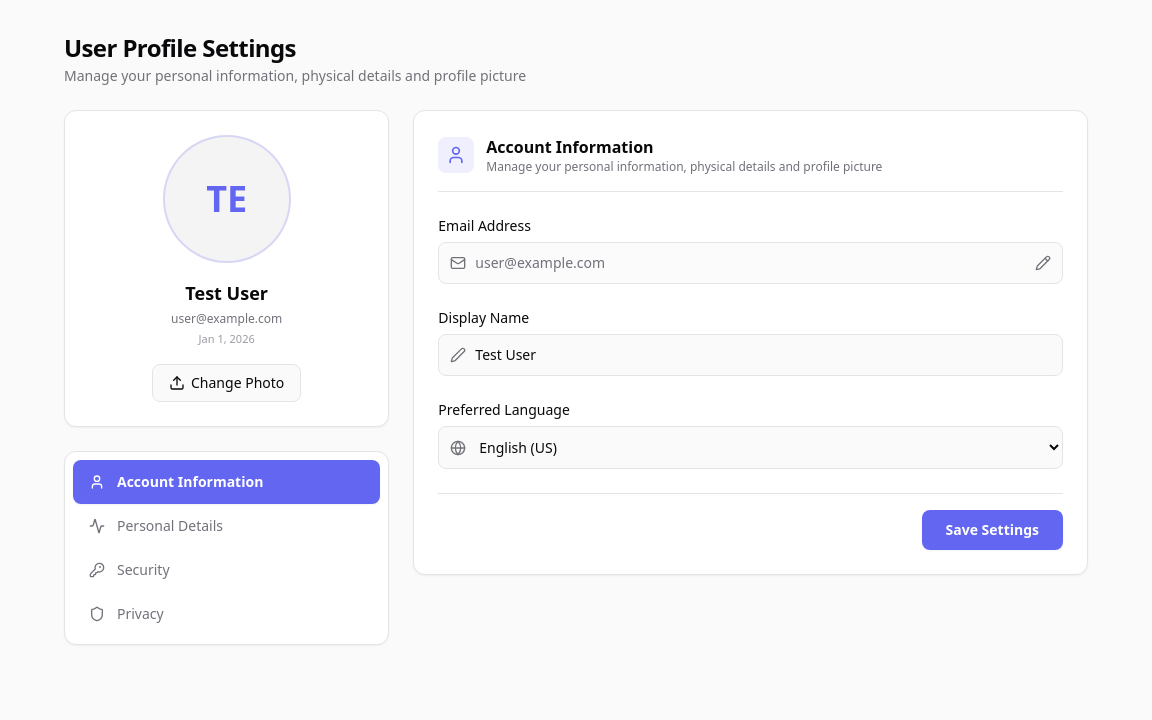
Scenario: Profile Data Deletion and Account Removal › handles error in Option A modal when password is wrong
The width and height of the screenshot is (1152, 720).
Note: Switch to Privacy tab
Click the tab "Privacy". click: click(140, 613)
box: [73,592,380,636]
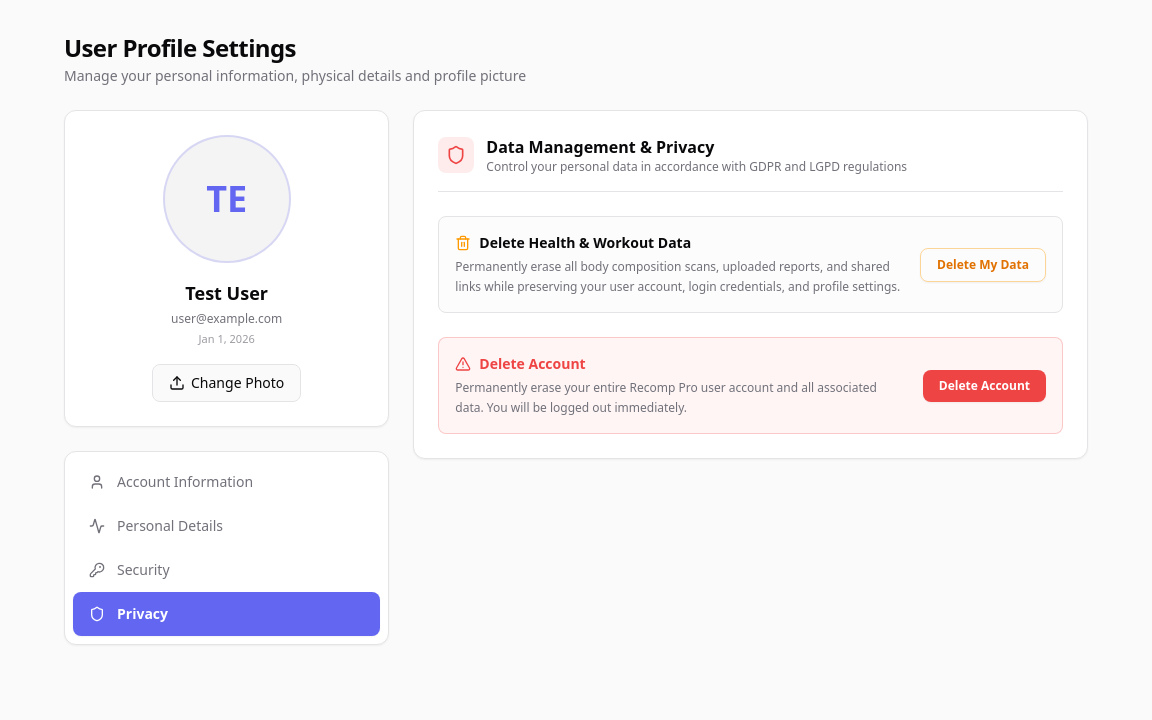
Note: Open Delete Data Modal
Click the button "Delete My Data". click: click(983, 264)
box: [920,248,1046,282]
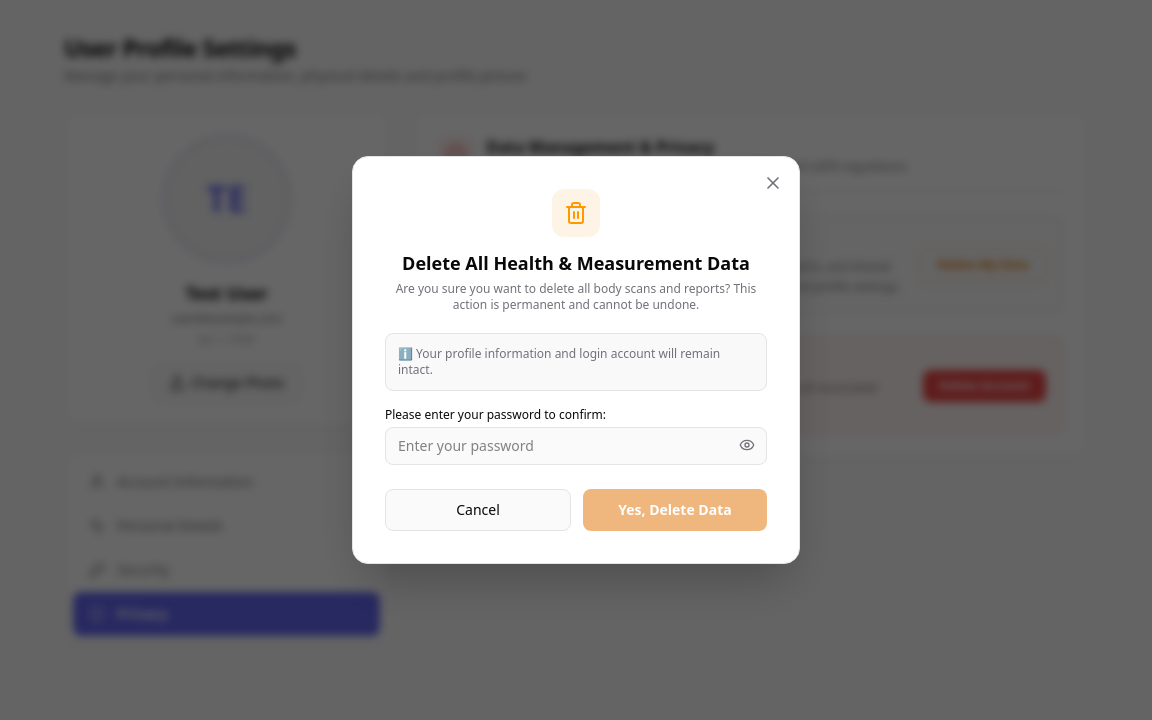
Type "wrongpassword" into the password field with placeholder "Enter your password". click: (576, 446)
box: [385,427,767,465]
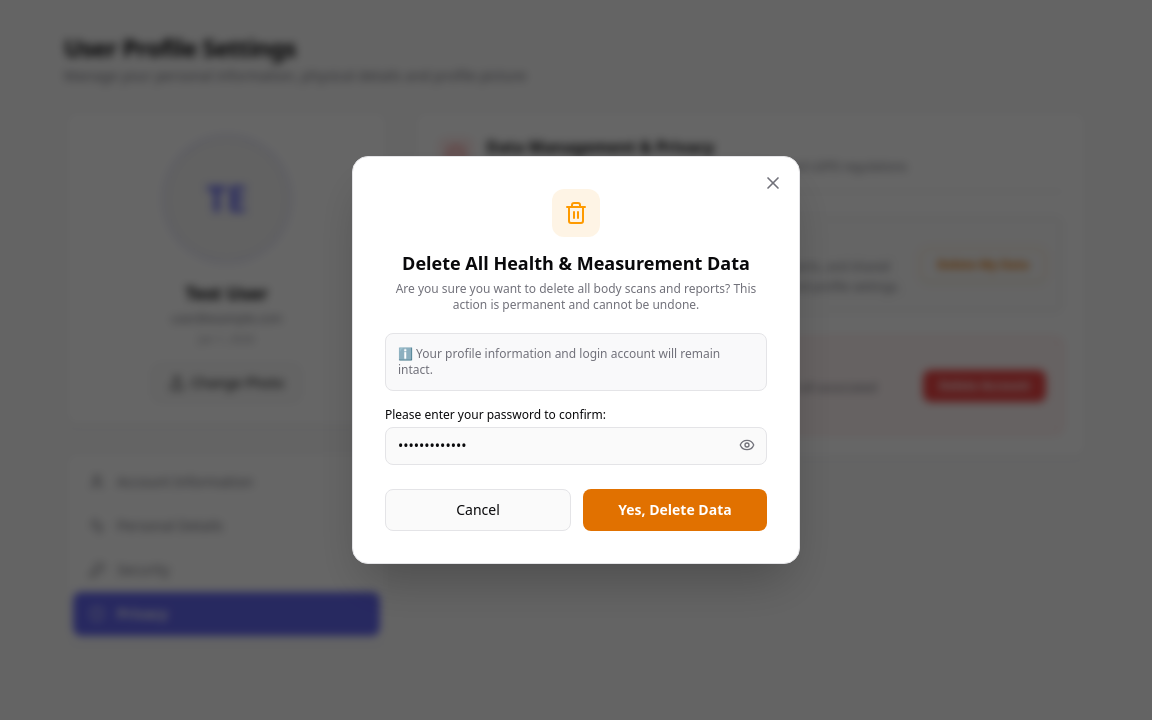
Click the button "Yes, Delete Data". click: click(675, 510)
box: [583,489,767,531]
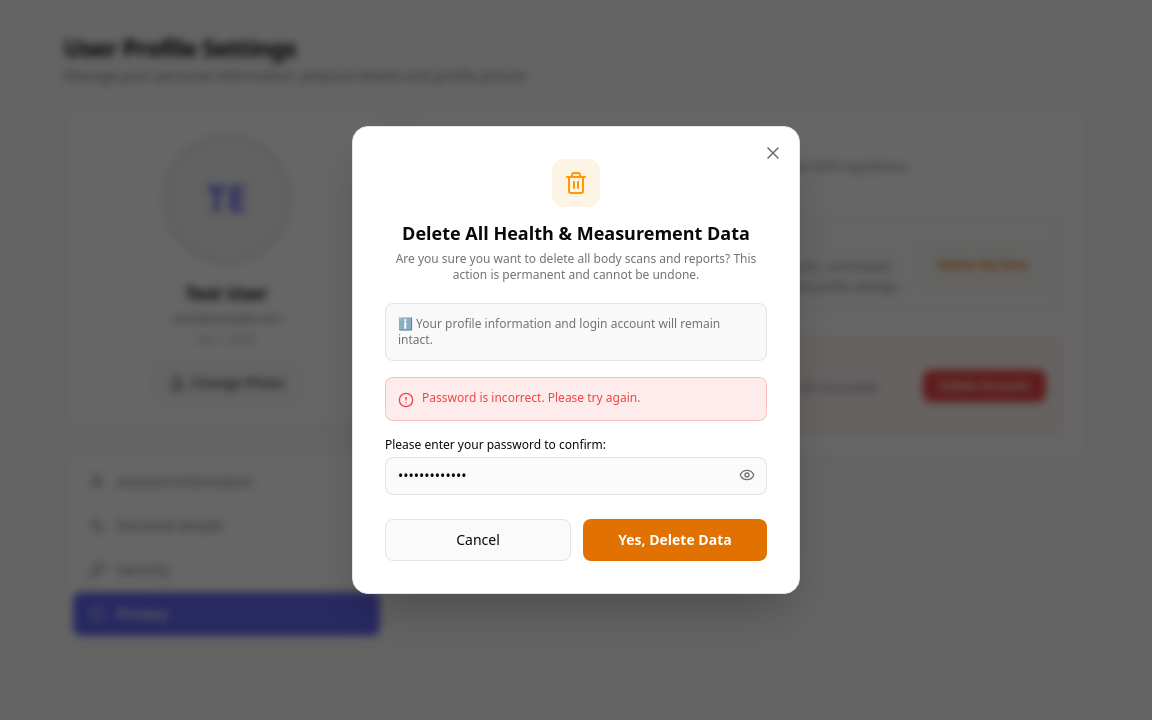
expect the text "Password is incorrect. Please try again." is shown: met, box [422,390,640,406]
